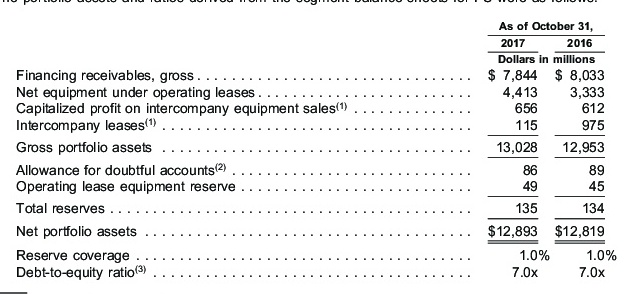table: (0, 0, 634, 294)
